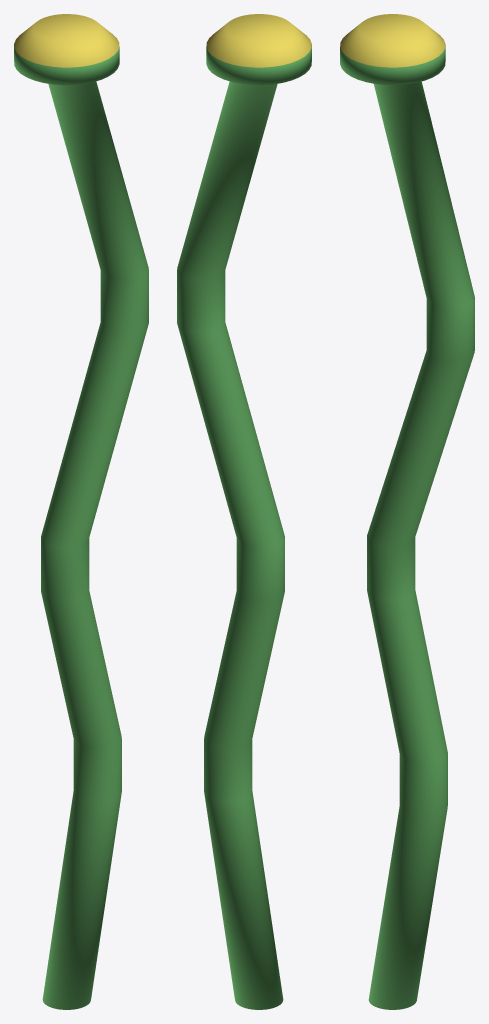
The model's file is Flower1.glb.
3 views of the same model, side by side, from view 1: azimuth 30°, elevation 25°; view 2: azimuth 150°, elevation 25°; view 3: azimuth 330°, elevation 25° (orthographic).
Visible parts, largest first — view 1: steblo; view 2: steblo; view 3: steblo.
Part boxes in pixels (left/top/right/bottom): steblo: left=14, top=14, right=148, bottom=1009; steblo: left=177, top=14, right=311, bottom=1009; steblo: left=340, top=14, right=474, bottom=1009.
Bounding box in the file's own units: 0.884 × 6.59 × 0.6492.
